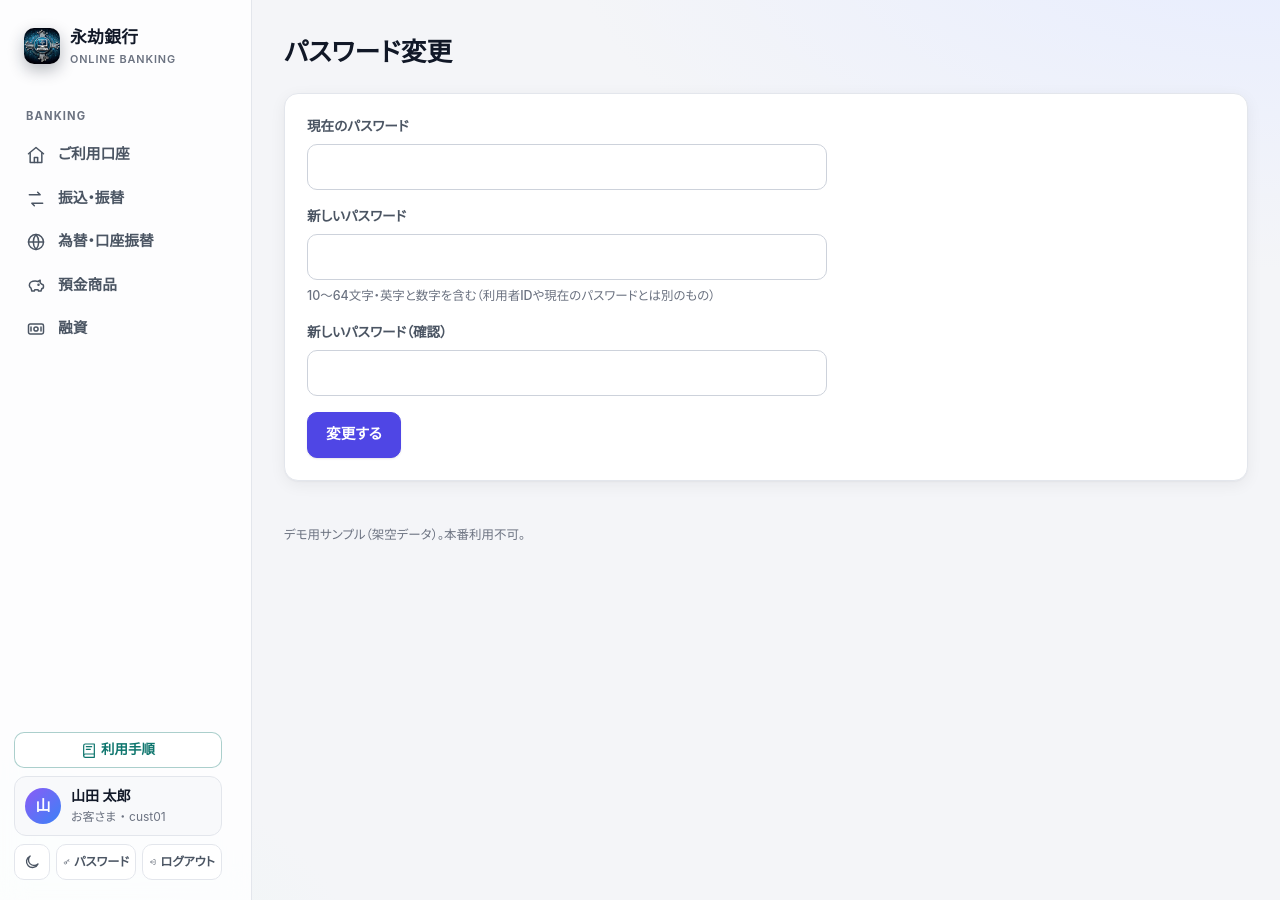
Test: PasswordPage › サーバーのエラー（強度不足など）を表示する
Type "OldPass2025" into the password field labelled "現在のパスワード" at (567, 167), box [307, 144, 827, 190]
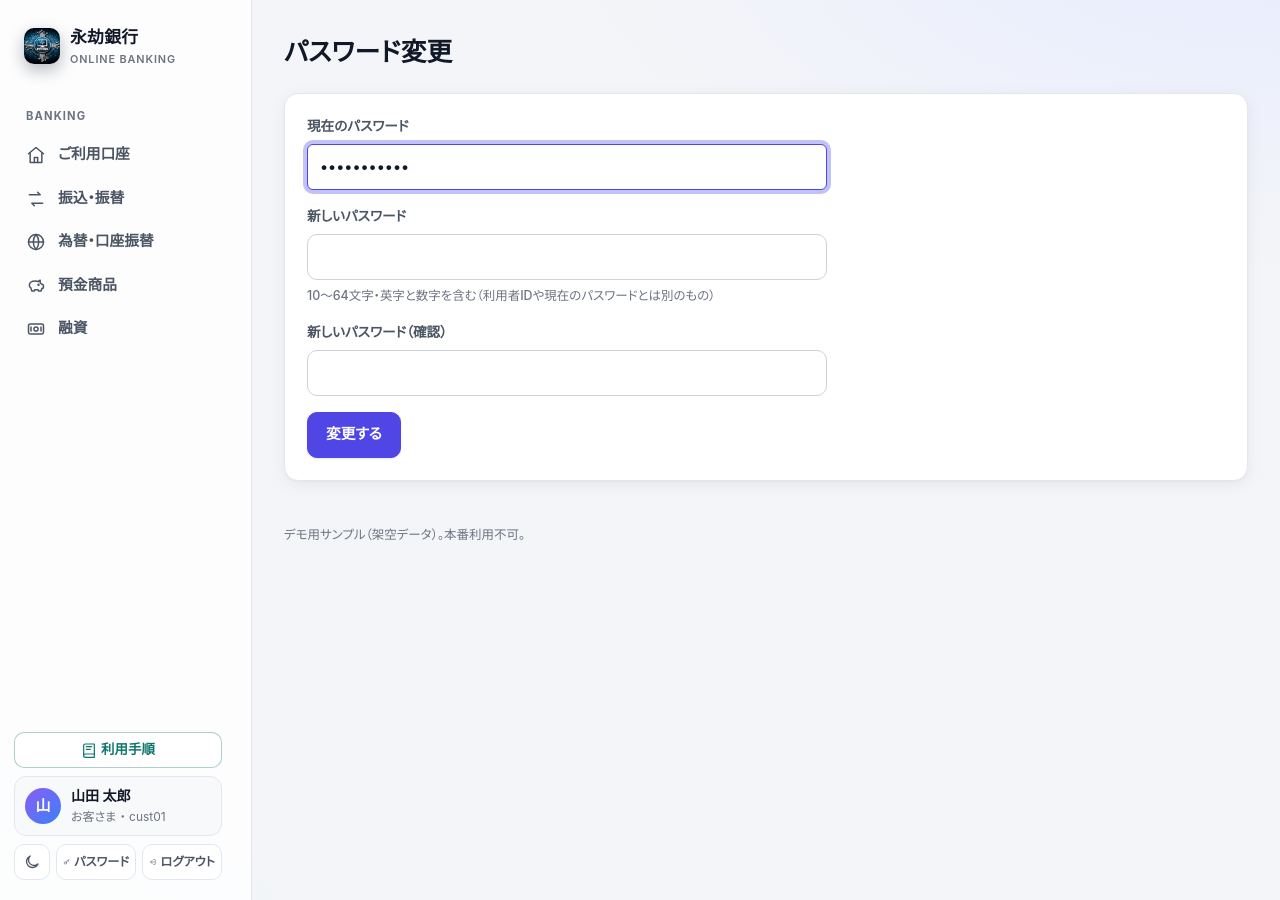
Type "aaaaaaaaaa" into the password field labelled "新しいパスワード 10〜64文字・英字と数字を含む（利用者IDや現在のパスワードとは別のもの）" at (567, 257), box [307, 234, 827, 280]
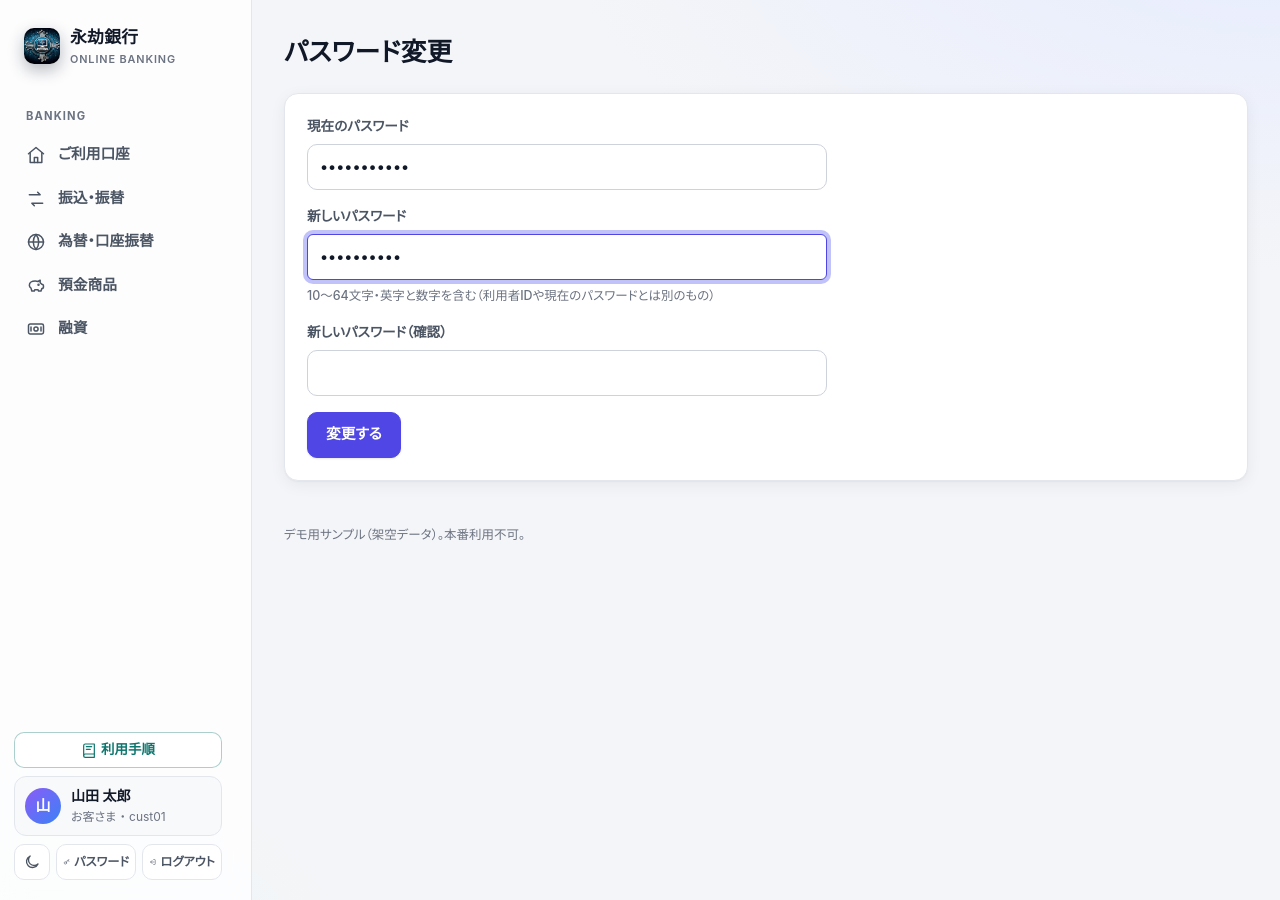
Type "aaaaaaaaaa" into the password field labelled "新しいパスワード（確認）" at (567, 373), box [307, 350, 827, 396]
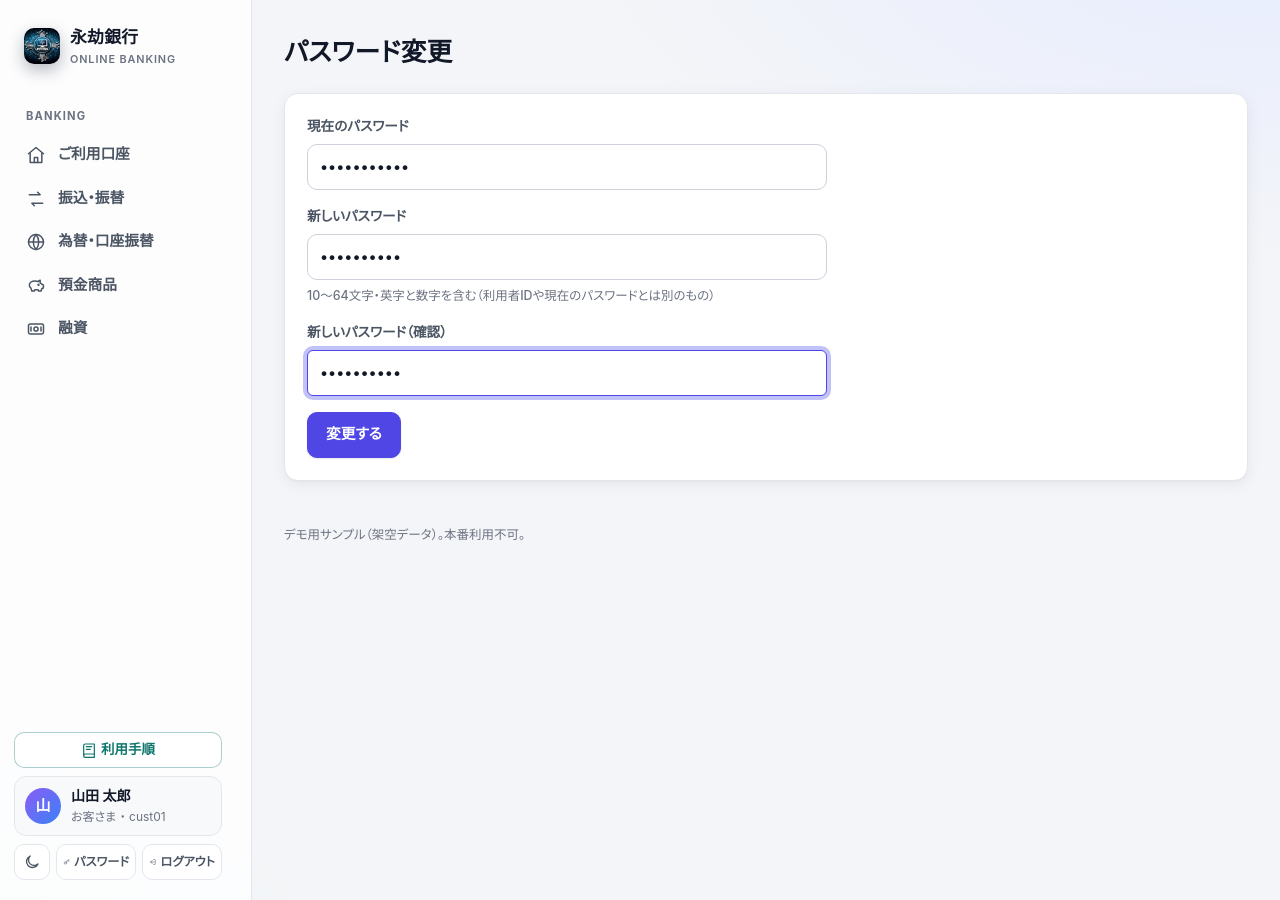
Click the button "変更する" at (354, 435), box [307, 412, 401, 458]
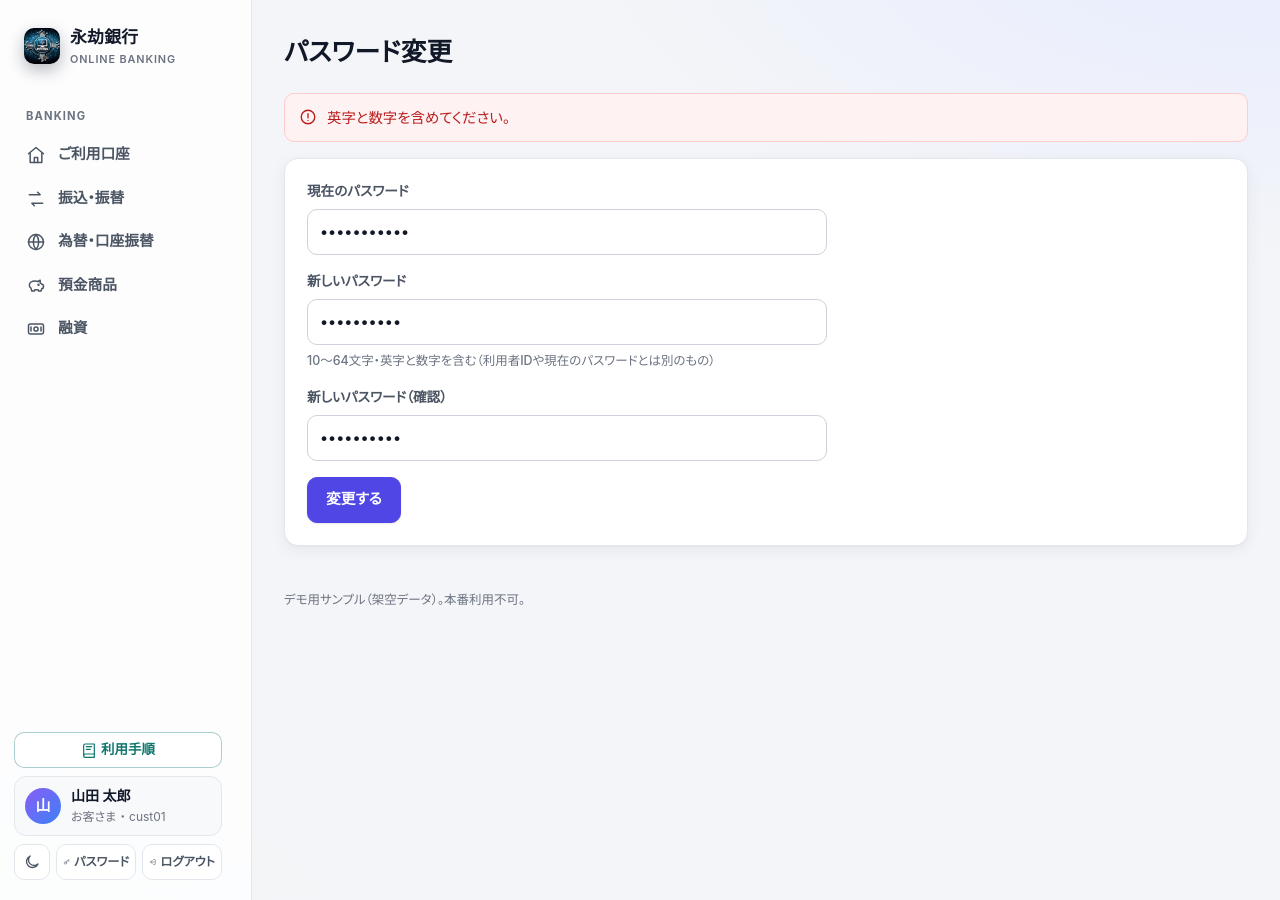
Result: the message reads "英字と数字を含めてください。" at [327, 109, 510, 126]
